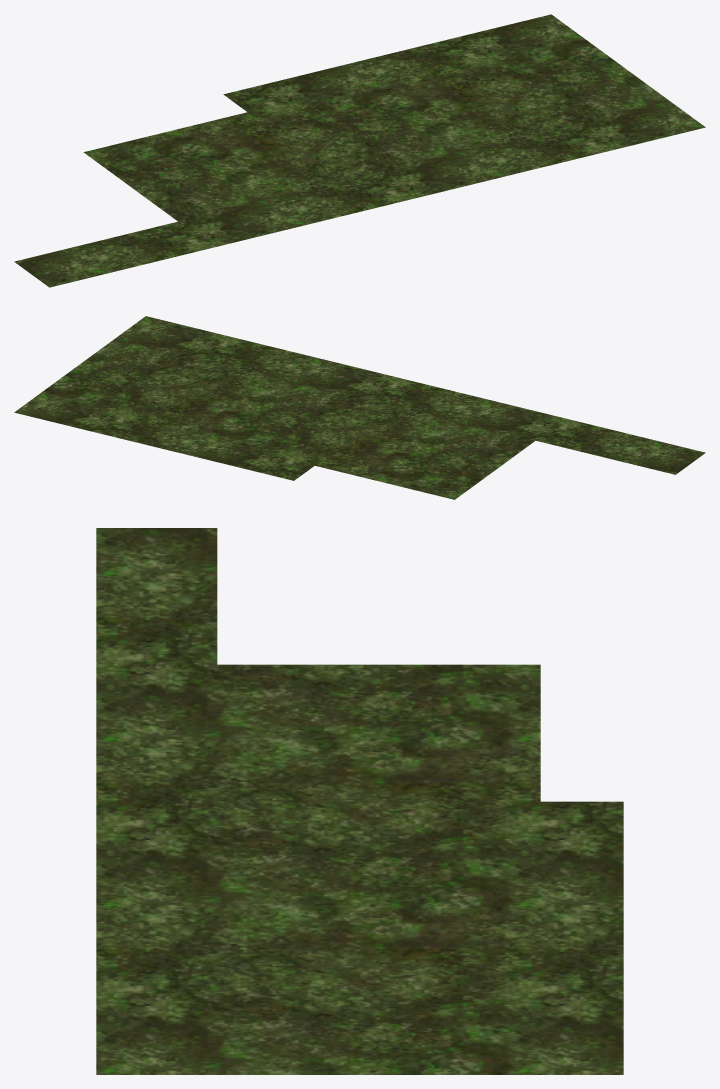
The model's file is OVERHILL_A_01_LINE423.fbx.
3 renders of one model, top to bottom at view 1: azimuth 30°, elevation 25°; view 2: azimuth 150°, elevation 25°; view 3: azimuth 270°, elevation 25°, orthographic. The views are drawn at different scales.
Visible parts, largest first — view 1: OVERHILL_A_01_LINE423; view 2: OVERHILL_A_01_LINE423; view 3: OVERHILL_A_01_LINE423.
Boxes of the visible parts, x1,y1,x2,y2 form: OVERHILL_A_01_LINE423: (14, 14, 705, 287); OVERHILL_A_01_LINE423: (14, 316, 705, 499); OVERHILL_A_01_LINE423: (96, 528, 623, 1074).
Bounding box in the file's own units: 80000 × 0.0297 × 32623.
1 material, 1 textured.
